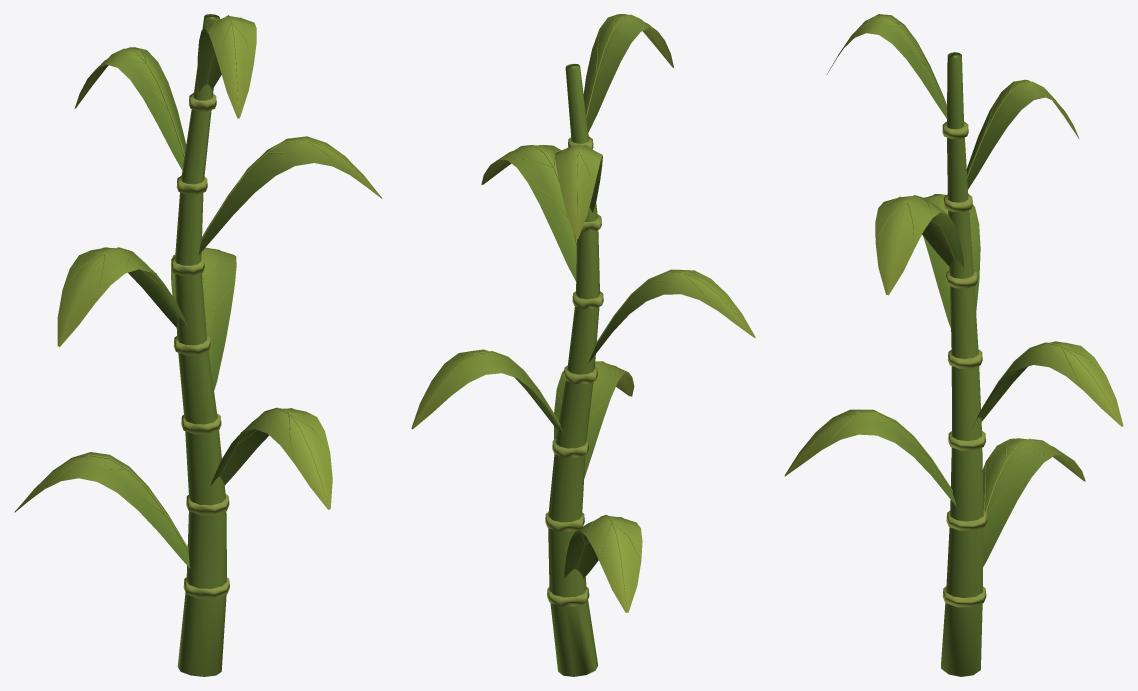
File: corn_stalk.glb
3 views of the same model, side by side, from view 1: azimuth 30°, elevation 25°; view 2: azimuth 150°, elevation 25°; view 3: azimuth 270°, elevation 25° (orthographic). The views are drawn at different scales.
Parts seen in each view (by area): view 1: Plant; view 2: Plant; view 3: Plant.
Boxes of the visible parts, bbox=[...] form: Plant: bbox=[14, 14, 382, 676]; Plant: bbox=[411, 14, 755, 676]; Plant: bbox=[784, 14, 1123, 676].
Size of the model in its own units: 0.8106 by 1.71 by 0.8109.
